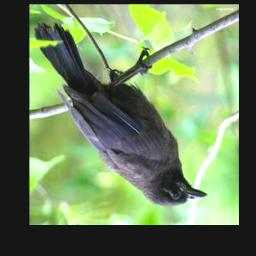Crow: (33, 22, 208, 209)
